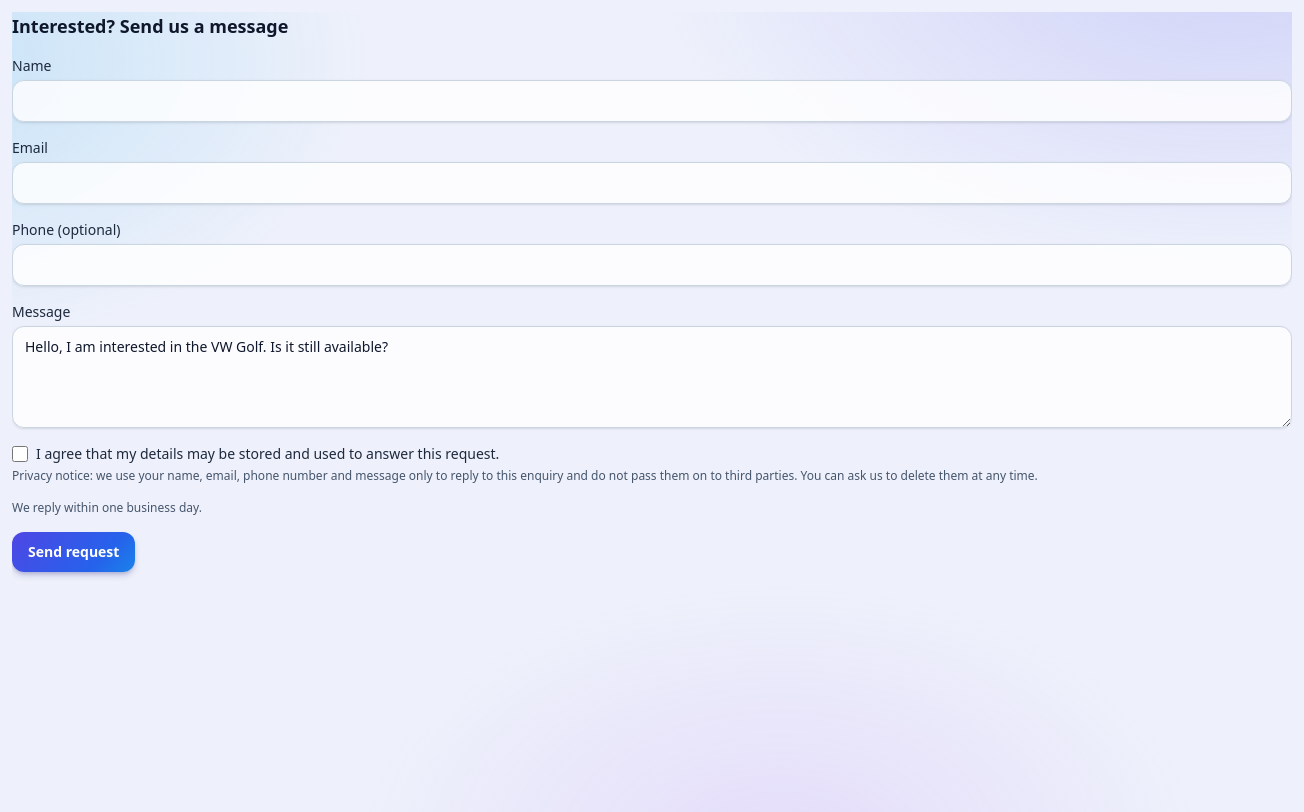
Test: LeadForm › shows a readable message when the API fails, and lets the user retry
Type "Erika Musterfrau" into the field labelled "Name". click: (652, 101)
box: left=12, top=80, right=1292, bottom=122
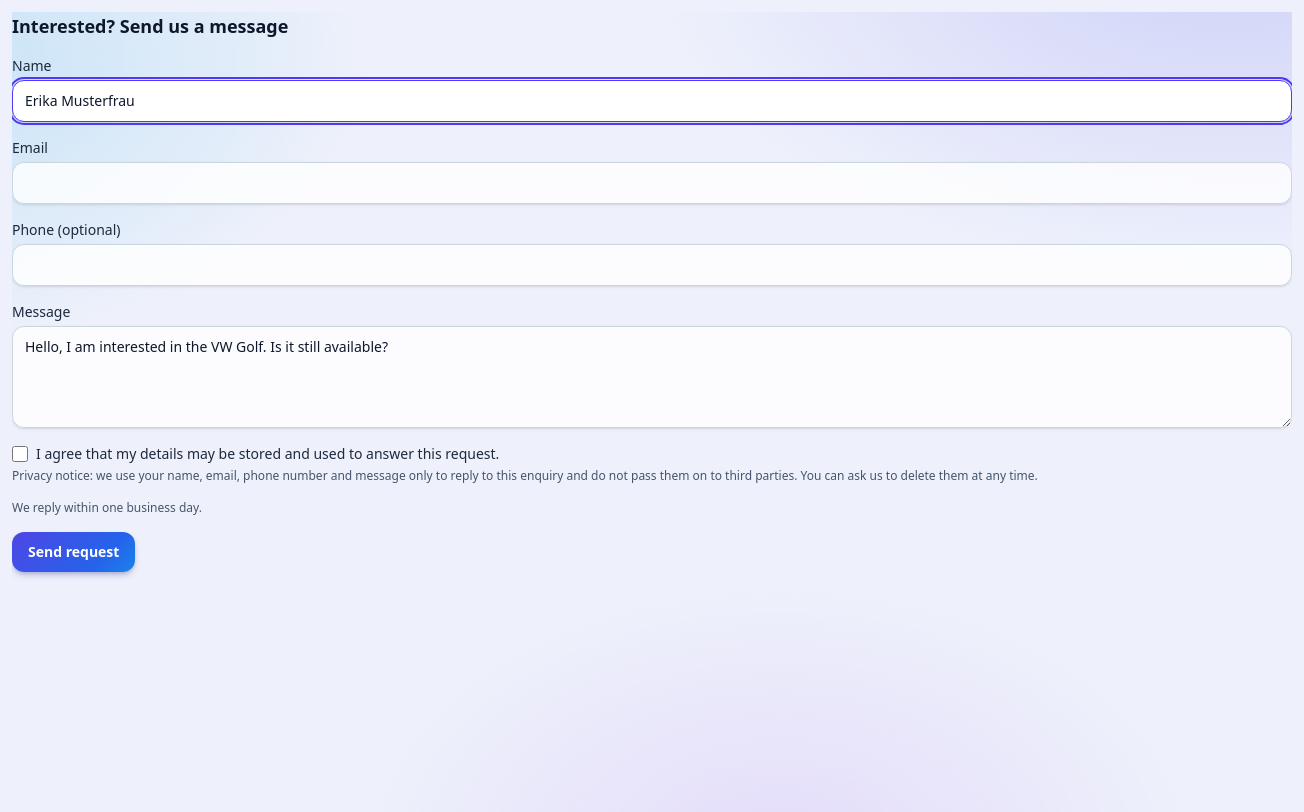
Type "erika@example.com" into the field labelled "Email". click: (652, 183)
box: left=12, top=162, right=1292, bottom=204
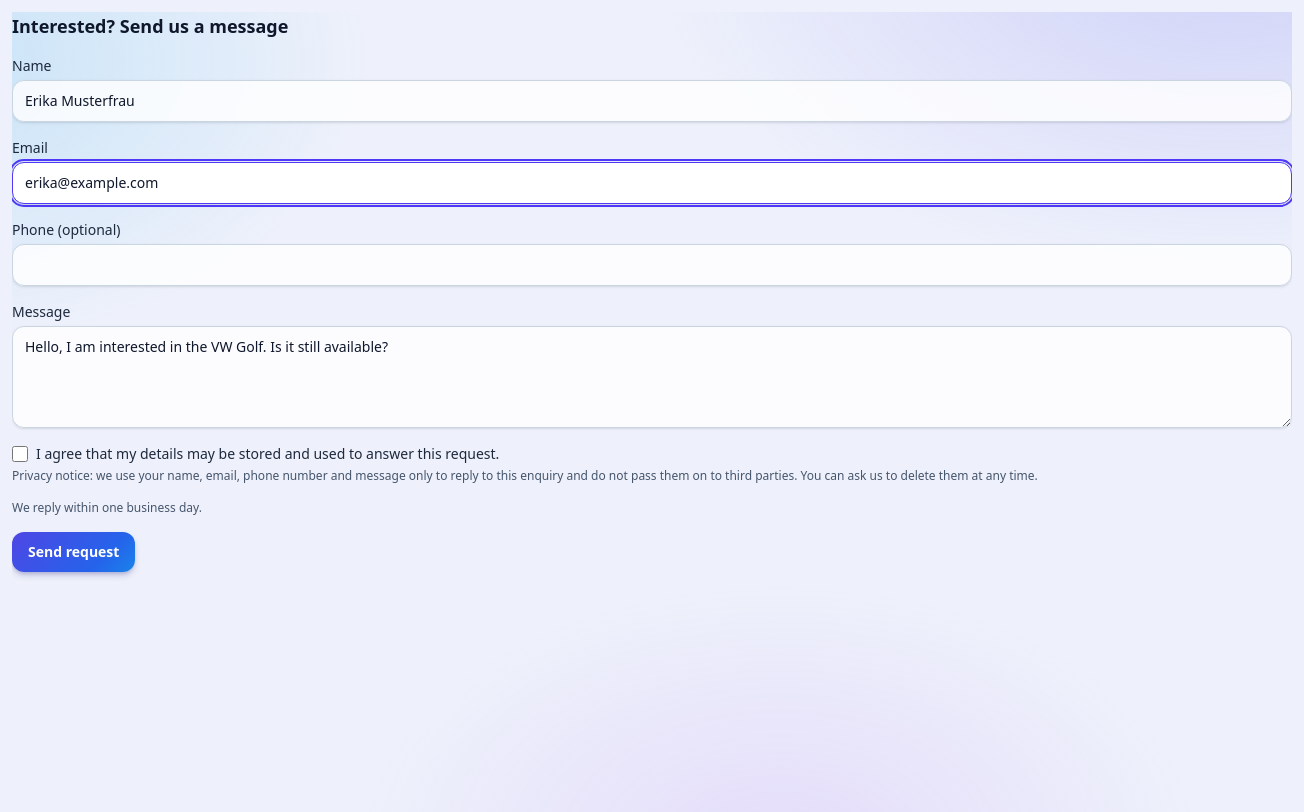
Click the checkbox labelled "I agree". click: (20, 454)
box: left=12, top=446, right=28, bottom=462
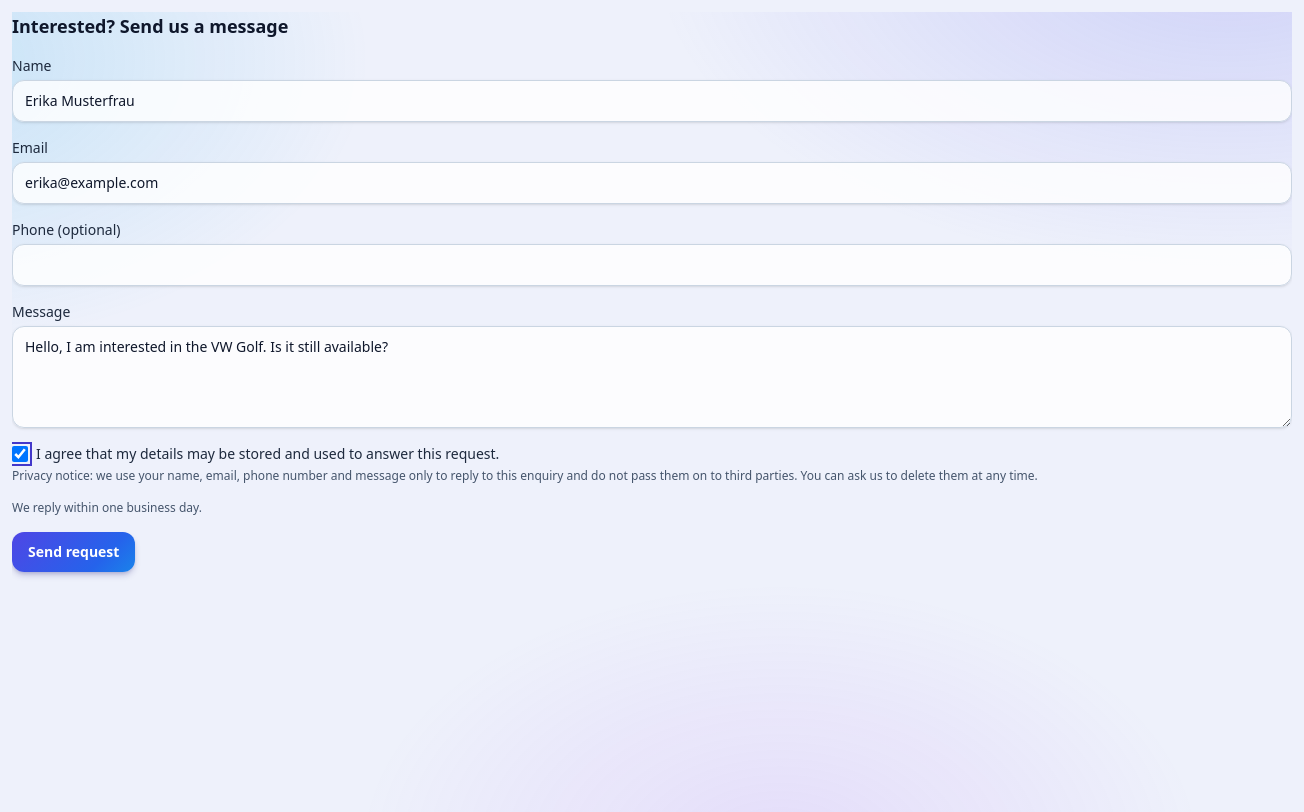
Click the button "Send request". click: (74, 552)
box: left=12, top=532, right=135, bottom=572
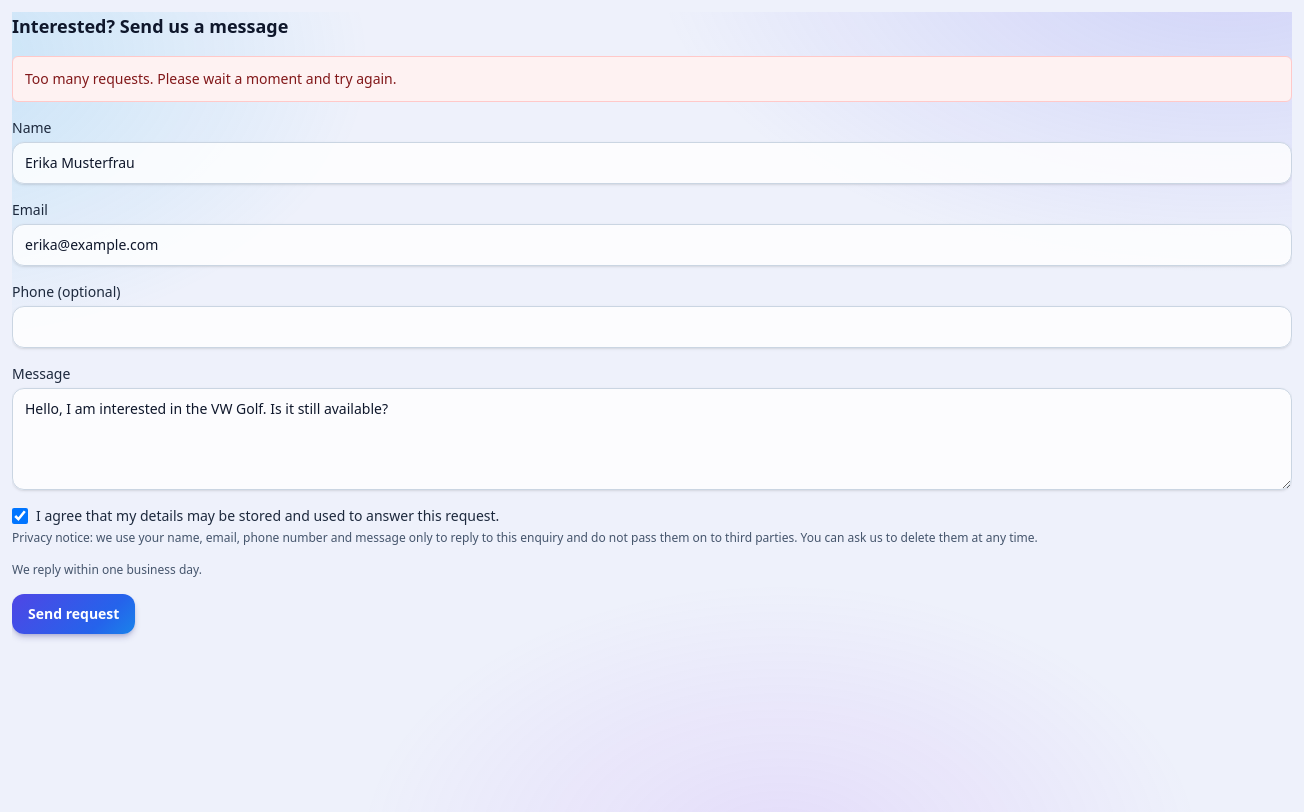
Expected: the button "Send request" is enabled, left=12, top=594, right=135, bottom=634
Expected: the message shows "Too many requests", left=25, top=69, right=396, bottom=88
